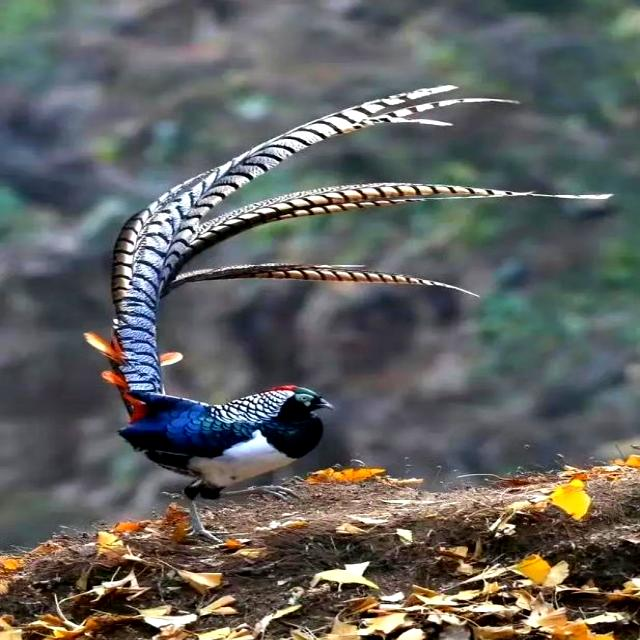Chrysolophus amherstiae: (112, 86, 590, 391)
